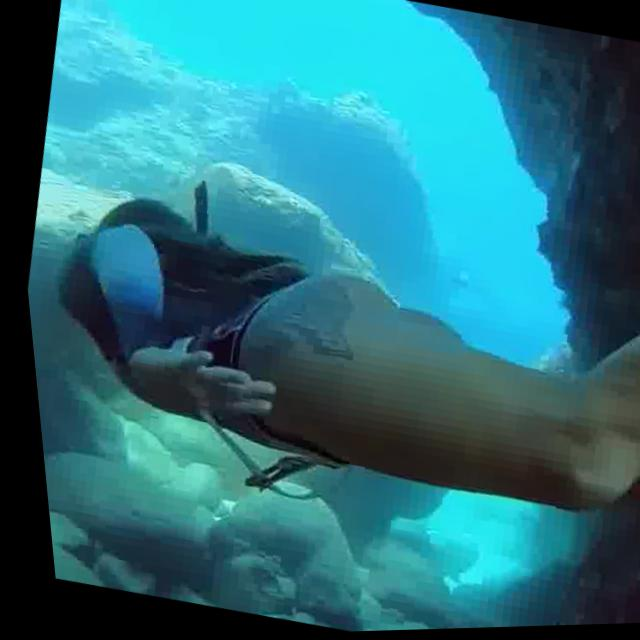human: (6, 65, 640, 556)
